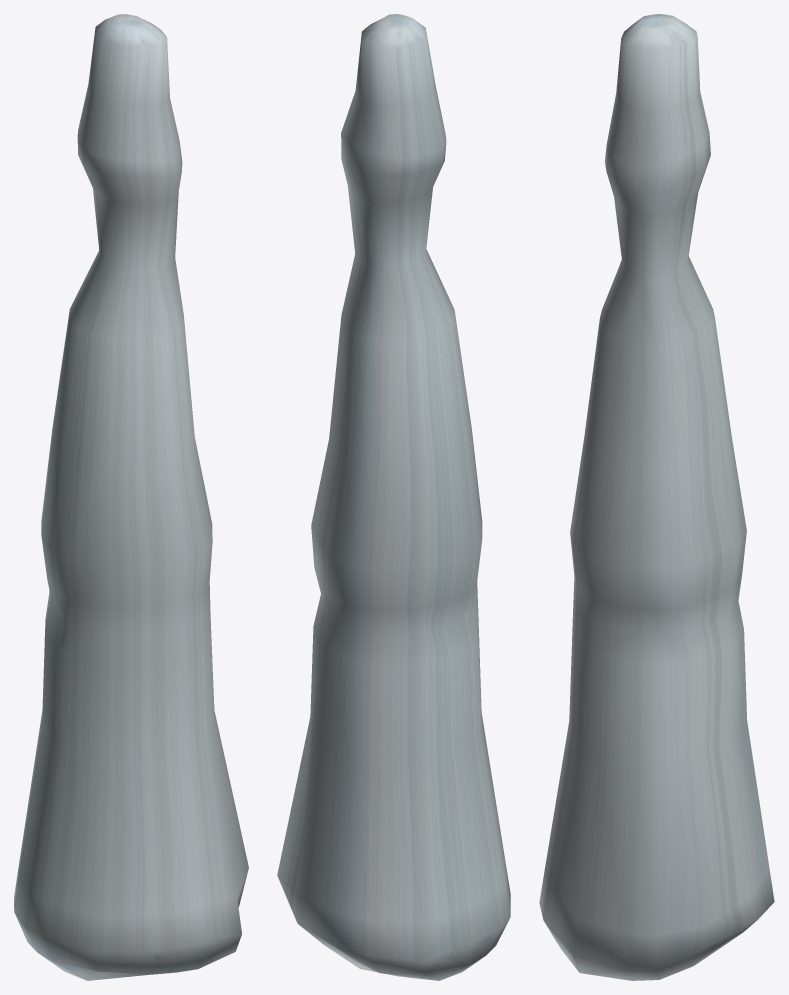
File: P_RockDesert_HoodooCliff02.obj
3 renders of one model, left to right at view 1: azimuth 30°, elevation 25°; view 2: azimuth 150°, elevation 25°; view 3: azimuth 270°, elevation 25°, orthographic.
Size of the model in its own units: 13.06 by 55.97 by 12.63.
